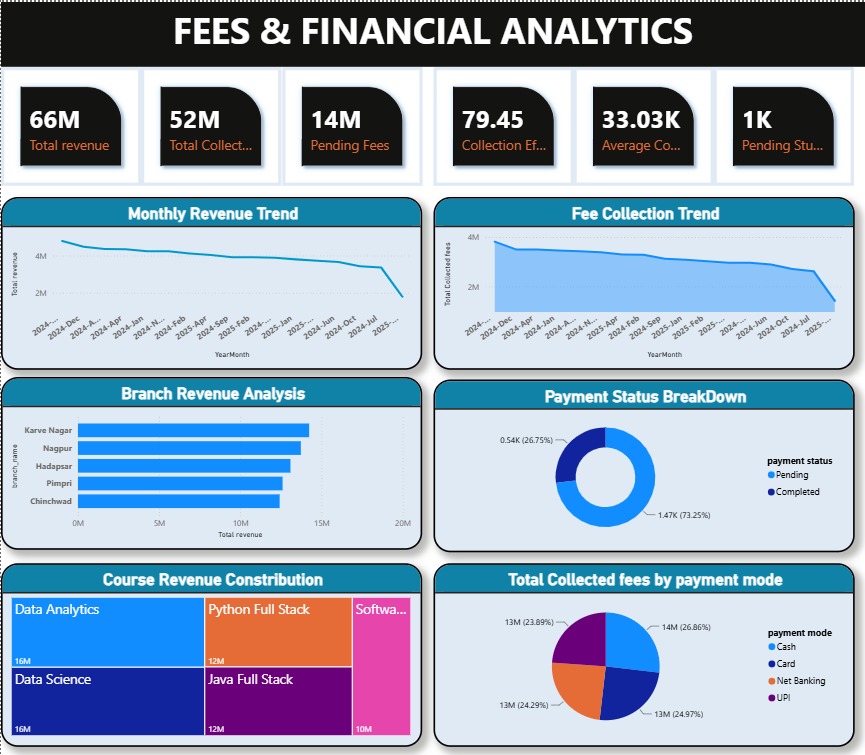

This screenshot's page, from the dashboard's own definition file:
{"tool":"powerbi","page":{"name":"Financial Analytics","canvas":[1280,1200],"ordinal":3},"visuals":[{"type":"textbox","box":[0,0,1280,96],"z":0},{"type":"cardVisual","fields":{"Data":["Revenue Measures.Total revenue"]},"box":[0,96,208,176],"z":1000},{"type":"cardVisual","fields":{"Data":["Revenue Measures.Total Collected fees"]},"box":[208,96,208,176],"z":2000},{"type":"cardVisual","fields":{"Data":["Revenue Measures.Pending Fees"]},"box":[416,96,208,176],"z":3000},{"type":"cardVisual","fields":{"Data":["Revenue Measures.Collection Efficiency %"]},"box":[640,96,208,176],"z":4000},{"type":"cardVisual","fields":{"Data":["Average Metrics.Average Course fee"]},"box":[848,96,208,176],"z":5000},{"type":"cardVisual","fields":{"Data":["Revenue Measures.Pending Students Count"]},"box":[1056,96,208,176],"z":6000},{"type":"lineChart","title":"Monthly Revenue Trend","fields":{"Category":["DateTable.YearMonth"],"Y":["Revenue Measures.Total revenue"]},"box":[0,288,624,256],"z":7000},{"type":"areaChart","title":"Fee Collection Trend","fields":{"Category":["DateTable.YearMonth"],"Y":["Revenue Measures.Total Collected fees"]},"box":[640,288,624,256],"z":8000},{"type":"clusteredBarChart","title":"Branch Revenue Analysis","fields":{"Category":["Branches.branch_name"],"Y":["Revenue Measures.Total revenue"]},"box":[0,556,624,256],"z":9000},{"type":"donutChart","title":"Payment Status BreakDown","fields":{"Category":["Fees.payment status"],"Y":["CountNonNull(Fees.student id)"]},"box":[640,560,624,256],"z":10000},{"type":"treemap","title":"Course Revenue Constribution","fields":{"Group":["Courses.course_name"],"Values":["Revenue Measures.Total revenue"]},"box":[0,832,624,272],"z":11000},{"type":"pieChart","fields":{"Category":["Fees.payment mode"],"Y":["Revenue Measures.Total Collected fees"]},"box":[640,832,624,272],"z":12000}]}

Visuals, with their boxes on the page's 1280x1200 design canvas (x1, y1, x2, y2). These are canvas units, not pixel positions in the 865x755 screenshot, which may show the page scaled, cropped or inside an application window:
textbox: 0 0 1280 96
cardVisual - Revenue Measures.Total revenue: 0 96 208 272
cardVisual - Revenue Measures.Total Collected fees: 208 96 416 272
cardVisual - Revenue Measures.Pending Fees: 416 96 624 272
cardVisual - Revenue Measures.Collection Efficiency %: 640 96 848 272
cardVisual - Average Metrics.Average Course fee: 848 96 1056 272
cardVisual - Revenue Measures.Pending Students Count: 1056 96 1264 272
"Monthly Revenue Trend" lineChart: 0 288 624 544
"Fee Collection Trend" areaChart: 640 288 1264 544
"Branch Revenue Analysis" clusteredBarChart: 0 556 624 812
"Payment Status BreakDown" donutChart: 640 560 1264 816
"Course Revenue Constribution" treemap: 0 832 624 1104
pieChart - Fees.payment mode x Revenue Measures.Total Collected fees: 640 832 1264 1104
